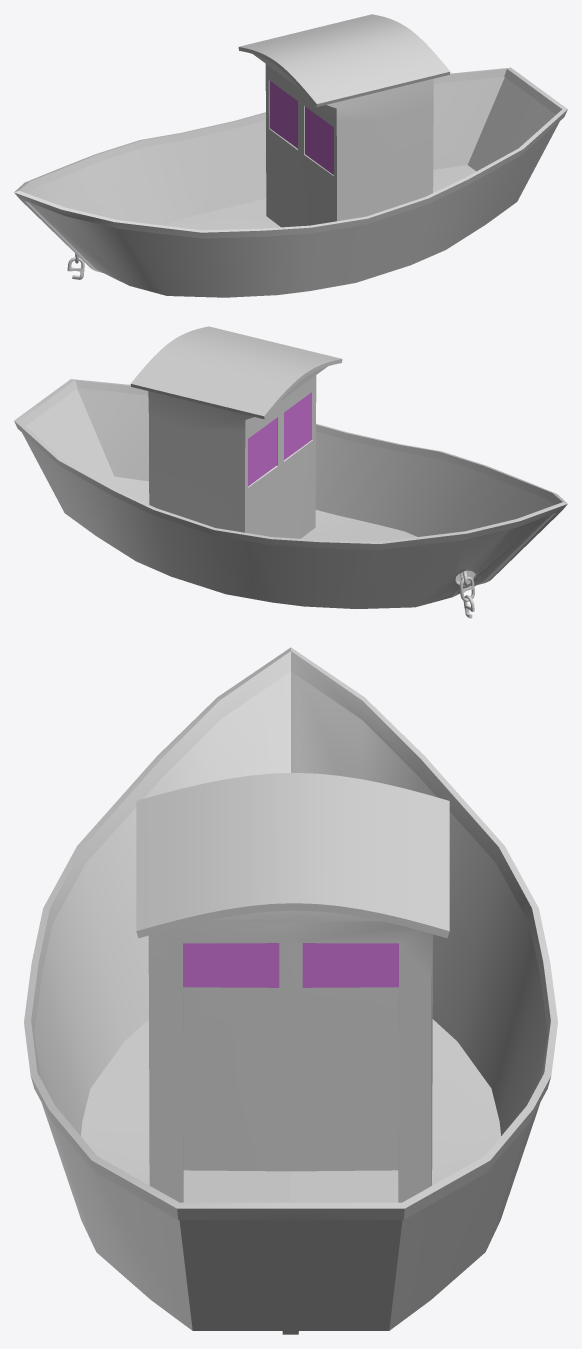
The model's file is ship low.fbx.
The picture shows the model from 3 angles, top to bottom: view 1: azimuth 30°, elevation 25°; view 2: azimuth 150°, elevation 25°; view 3: azimuth 270°, elevation 25°; orthographic projection. The views are drawn at different scales.
Visible parts, largest first — view 1: Cube; view 2: Cube; view 3: Cube.
Part boxes in pixels (<box>): Cube: <box>14,14,567,297</box>; Cube: <box>14,326,567,618</box>; Cube: <box>24,647,557,1334</box>.
Size of the model in its own units: 1101 by 377 by 485.
